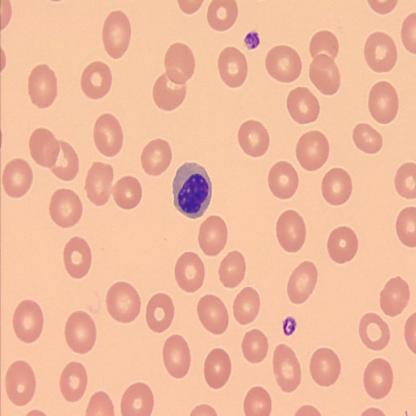NRC: (171, 158, 213, 221)
